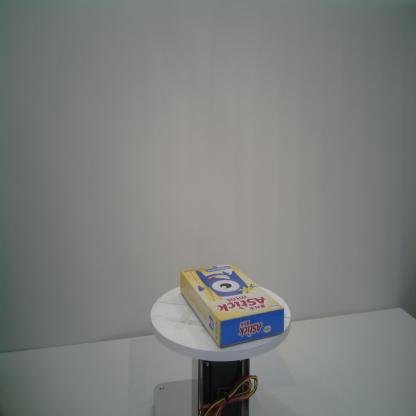Dessert: (178, 260, 286, 349)
